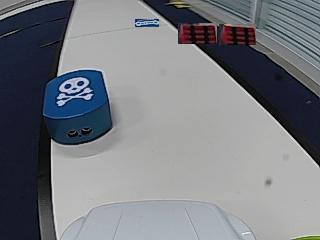danger: (56, 77, 90, 106)
